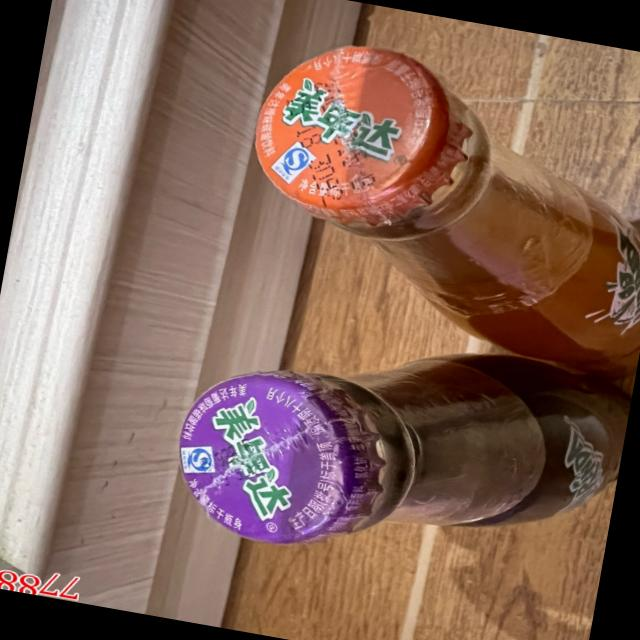bottle: (222, 27, 640, 375), (164, 300, 635, 602)
